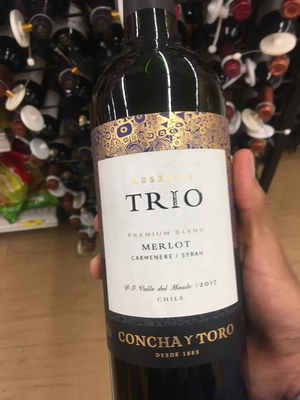trio merlot: (87, 19, 256, 392)
